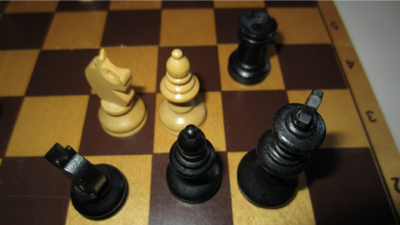black-bishop: (165, 124, 223, 205)
black-king: (237, 88, 328, 210)
black-knight: (43, 142, 130, 221)
black-rook: (227, 11, 279, 86)
white-bishop: (158, 48, 209, 138)
white-knight: (85, 49, 148, 139)
